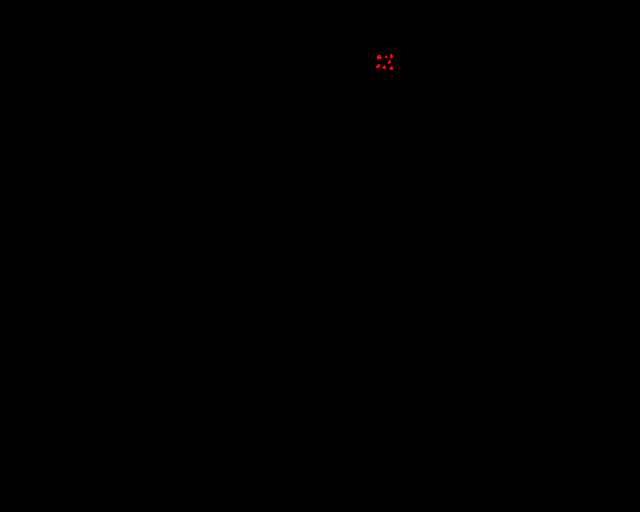Target: (377, 55, 382, 60), (376, 64, 380, 68), (382, 65, 386, 69), (389, 66, 393, 70), (390, 54, 393, 58), (388, 60, 391, 64), (385, 56, 388, 58)
